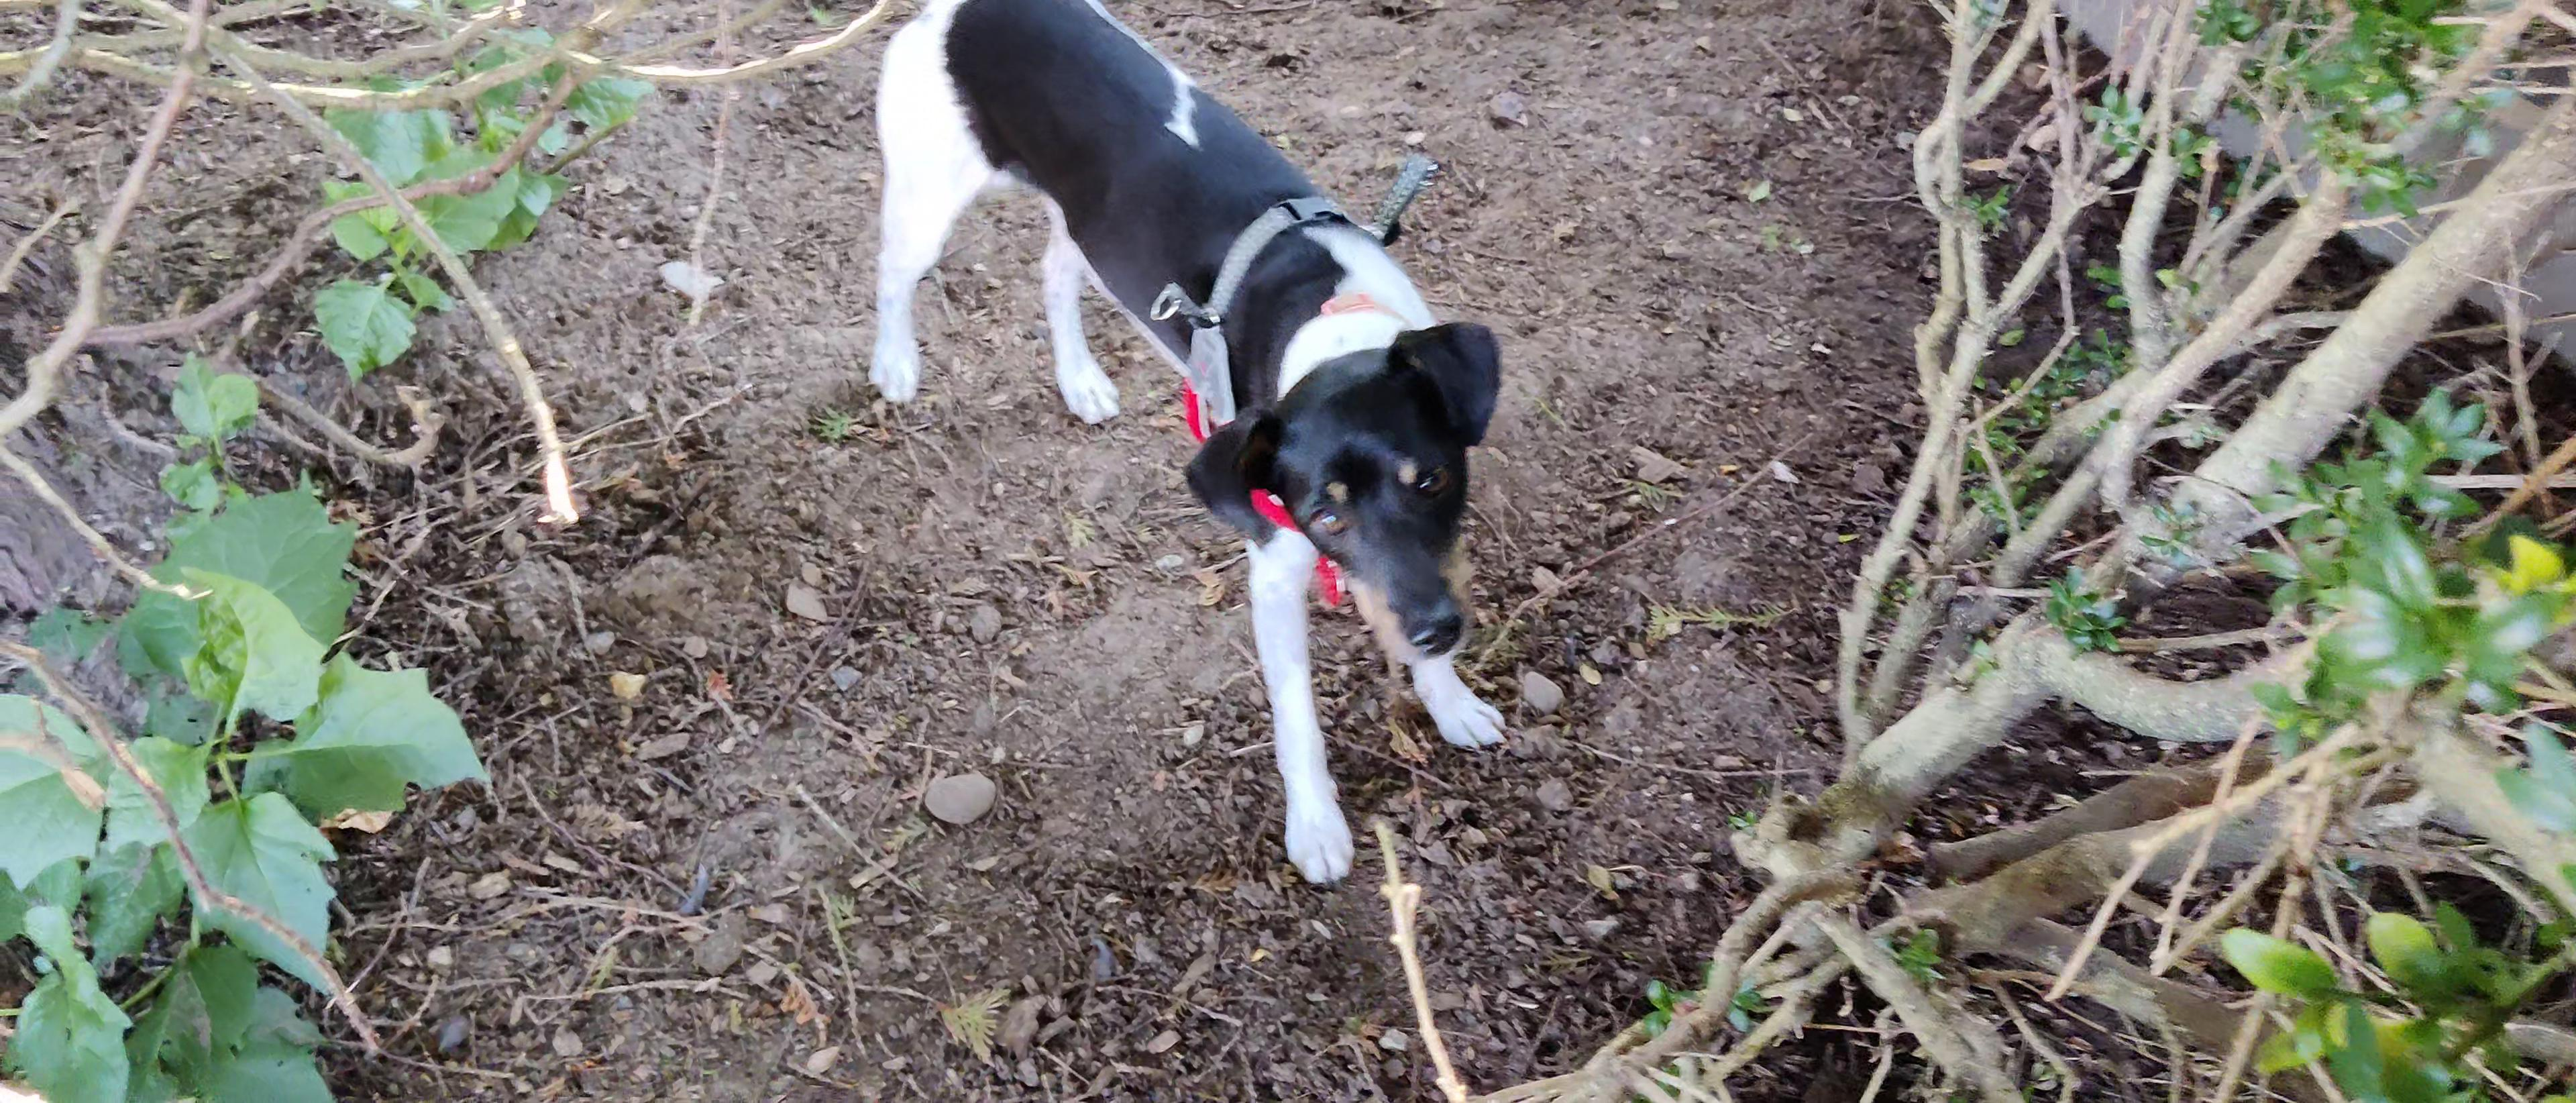Dog: (826, 0, 1577, 889)
